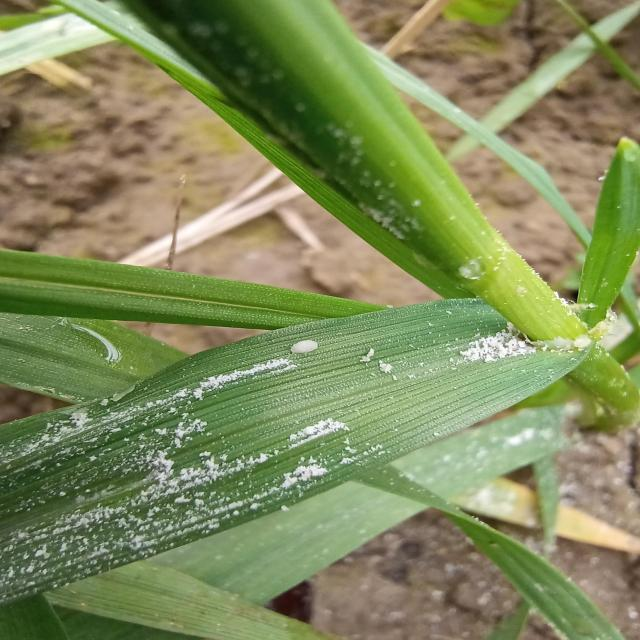Powdery Mildew: (161, 313, 557, 535), (1, 425, 165, 555)
